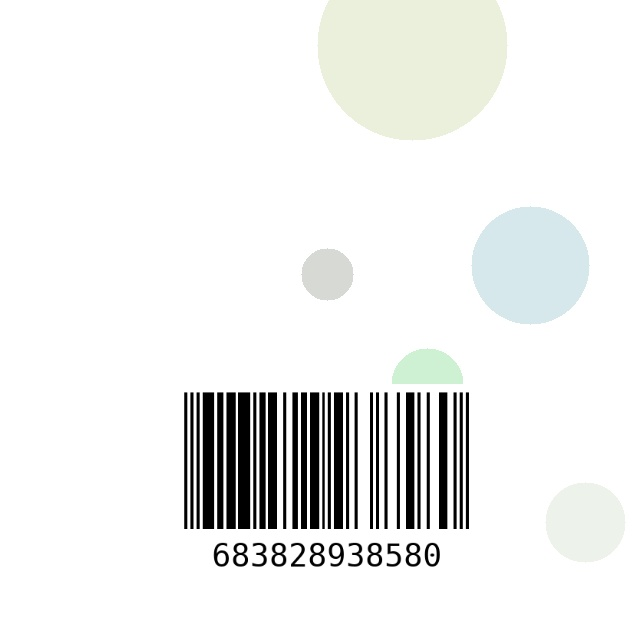barcode: (126, 384, 527, 599)
